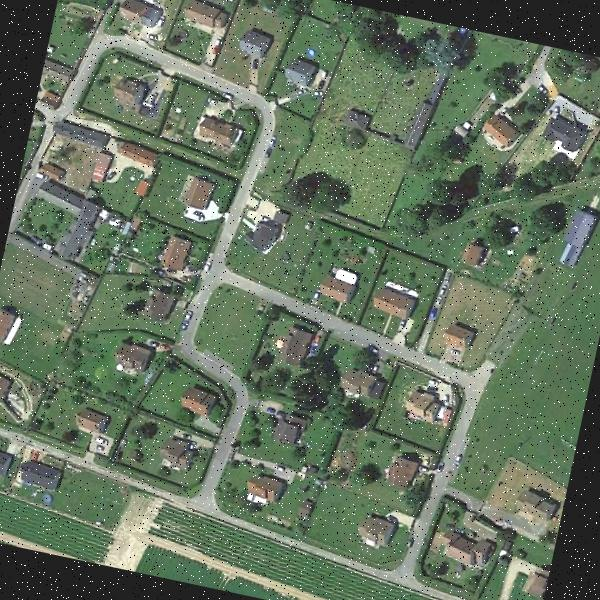Buildings: (42, 126, 102, 190), (434, 528, 501, 575), (512, 483, 566, 535), (276, 55, 326, 94), (110, 71, 148, 112), (320, 271, 362, 308), (180, 0, 228, 32), (352, 513, 396, 546), (161, 442, 202, 477), (117, 340, 154, 378), (180, 176, 218, 212), (336, 368, 377, 401), (384, 456, 421, 492), (198, 114, 240, 144), (550, 120, 588, 150), (482, 119, 518, 149), (447, 317, 475, 354), (177, 386, 214, 414), (375, 290, 411, 317), (160, 234, 188, 268), (244, 477, 280, 503), (410, 394, 442, 420), (144, 288, 170, 318), (74, 405, 106, 429), (235, 35, 268, 54), (0, 310, 12, 337), (0, 371, 8, 402)
